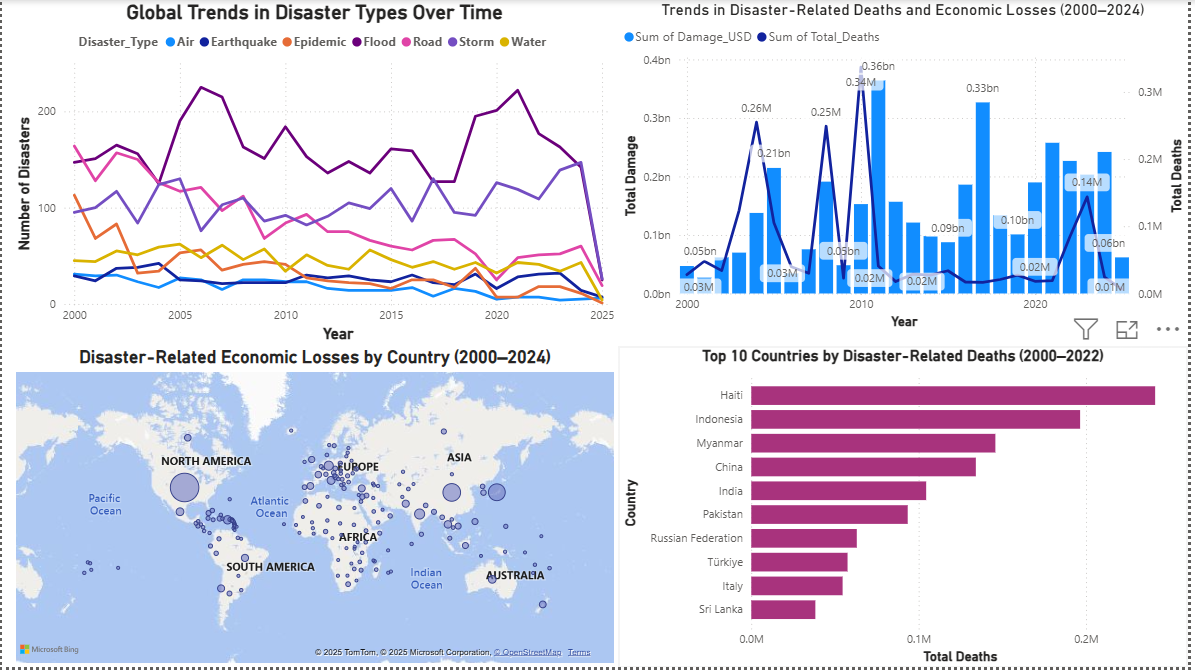

This screenshot's page, from the dashboard's own definition file:
{"tool":"powerbi","page":{"name":"Dashboard 1","canvas":[1280,720],"ordinal":4},"visuals":[{"type":"lineChart","title":"Global Trends in Disaster Types Over Time","fields":{"Category":["EM-DAT.Year"],"Series":["EM-DAT.Disaster_Type"],"Y":["CountNonNull(EM-DAT.Disaster_Type)"]},"box":[9.7,0,655.8,374],"z":0},{"type":"lineClusteredColumnComboChart","title":"Trends in Disaster-Related Deaths and Economic Losses (2000–2024)","fields":{"Category":["EM-DAT.Year"],"Y":["Sum(EM-DAT.Damage_USD)"],"Y2":["Sum(EM-DAT.Total_Deaths)"]},"box":[665.5,0,613.7,359.5],"z":1000},{"type":"map","title":"Disaster-Related Economic Losses by Country (2000–2024)","fields":{"Category":["EM-DAT.Country"],"Size":["Sum(EM-DAT.Damage_USD)"]},"box":[9.7,374,655.8,346.5],"z":2000},{"type":"barChart","title":"Top 10 Countries by Disaster-Related Deaths (2000–2022)","fields":{"Category":["EM-DAT.Country"],"Y":["Sum(EM-DAT.Total_Deaths)"]},"box":[665.5,374,613.7,346.5],"z":3000}]}

Visuals, with their boxes in screenshot pixels (x1, y1, x2, y2), scaled from the page's 1280x720 canvas onto the 1195x671 screenshot:
"Global Trends in Disaster Types Over Time" lineChart: (left=9, top=0, right=621, bottom=349)
"Trends in Disaster-Related Deaths and Economic Losses (2000–2024)" lineClusteredColumnComboChart: (left=621, top=0, right=1194, bottom=335)
"Disaster-Related Economic Losses by Country (2000–2024)" map: (left=9, top=349, right=621, bottom=670)
"Top 10 Countries by Disaster-Related Deaths (2000–2022)" barChart: (left=621, top=349, right=1194, bottom=670)
